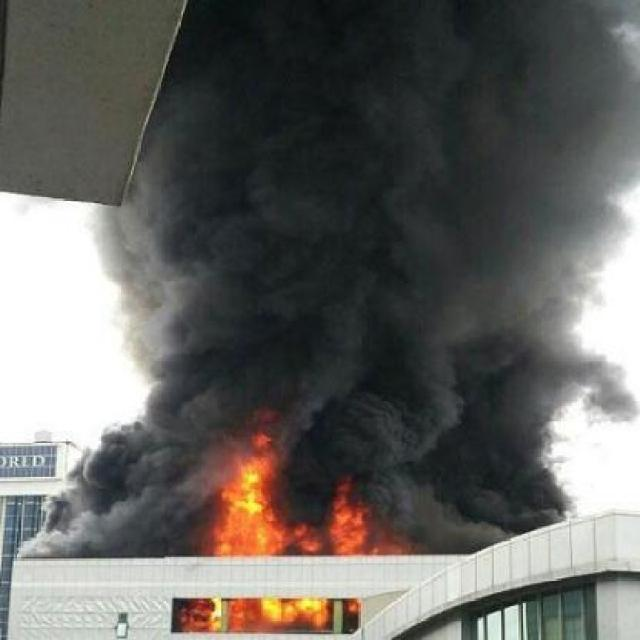Fire: (146, 420, 432, 640)
Smoke: (82, 19, 624, 396)
